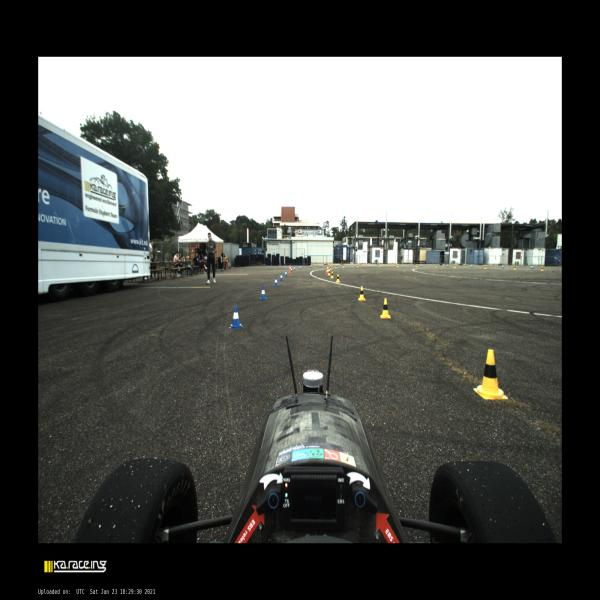blue_cone: (229, 306, 243, 328), (260, 287, 267, 300), (274, 277, 278, 286), (279, 273, 283, 281), (285, 270, 287, 276), (291, 267, 293, 272), (294, 266, 296, 270), (310, 264, 312, 268), (502, 264, 504, 268), (531, 266, 533, 268), (336, 264, 338, 266), (356, 264, 358, 266), (420, 264, 422, 266), (396, 264, 398, 266), (300, 266, 301, 269), (321, 264, 322, 267), (471, 264, 472, 267), (447, 264, 448, 267), (378, 263, 378, 266)
large_orange_cone: (326, 264, 329, 274), (289, 265, 292, 273)
yellow_cone: (474, 349, 508, 400), (380, 298, 391, 319), (358, 286, 366, 301), (336, 274, 340, 282), (331, 271, 334, 278), (328, 270, 331, 275), (541, 265, 543, 271), (330, 265, 332, 270), (514, 266, 516, 270), (454, 264, 456, 268), (342, 264, 344, 267), (416, 264, 418, 267), (335, 265, 337, 268), (329, 266, 330, 271), (378, 264, 380, 266), (485, 265, 486, 269), (397, 264, 398, 267), (357, 264, 358, 267), (436, 264, 436, 267)
